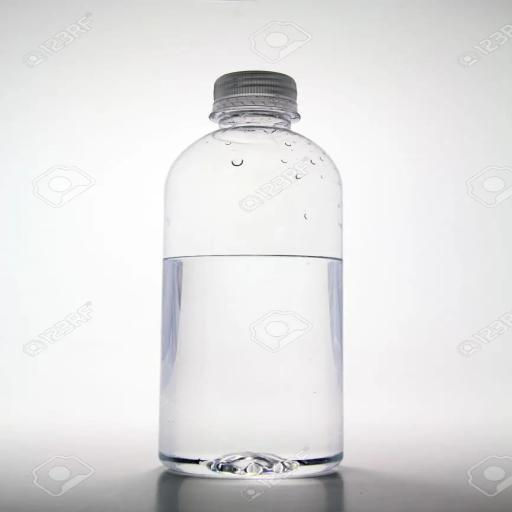bottle: (149, 62, 358, 484)
